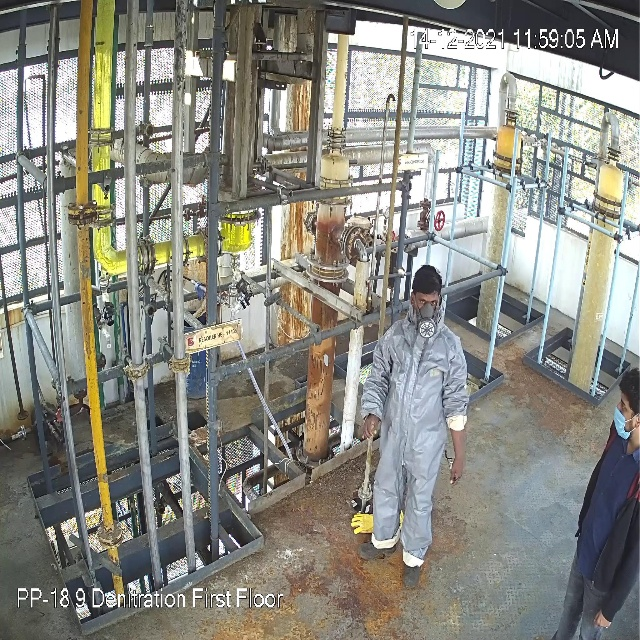Mascara: (415, 305, 441, 340)
Sin_gafas: (416, 293, 440, 308)
Sin_guantes: (449, 428, 466, 489), (358, 410, 381, 444)
